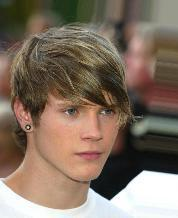face: (60, 103, 117, 162)
